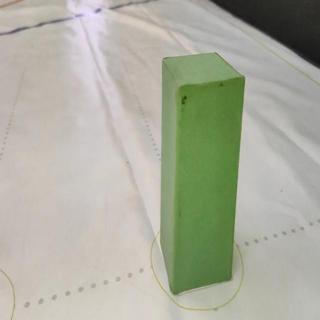greenbox: (160, 51, 246, 295)
